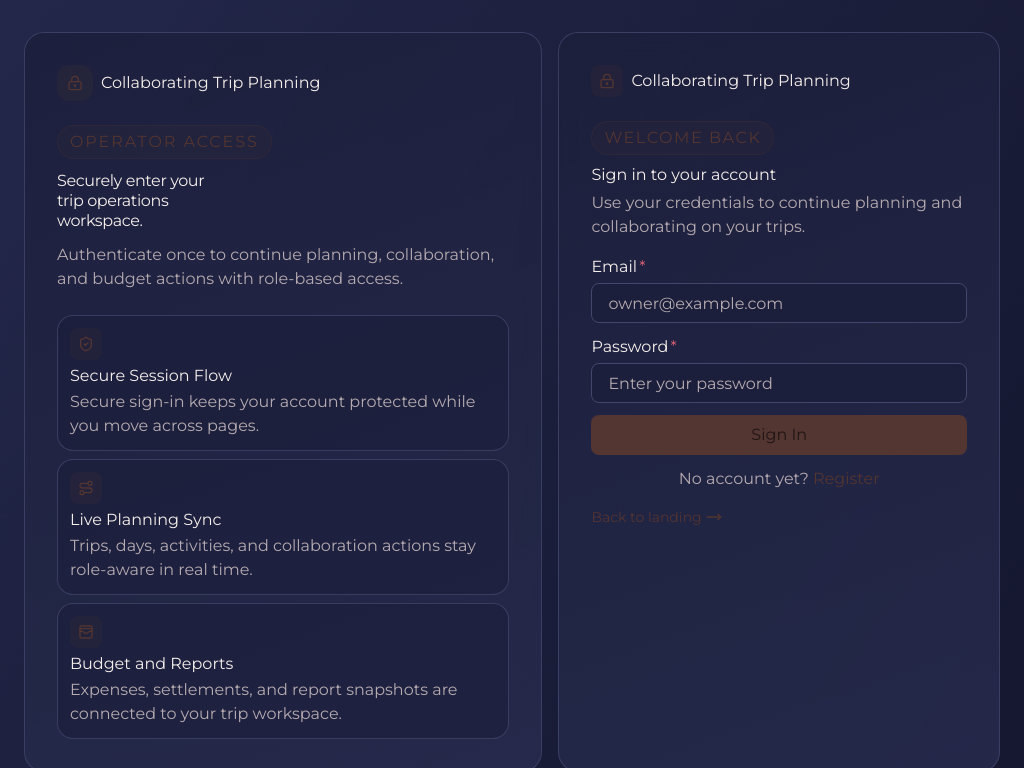
Scenario: LoginPage integration › shows API error message when sign in fails
This screenshot has width=1024, height=768.
In the field labelled "Email*": x=779, y=303 x1=591 y1=283 x2=967 y2=323, type "viewer@example.com"
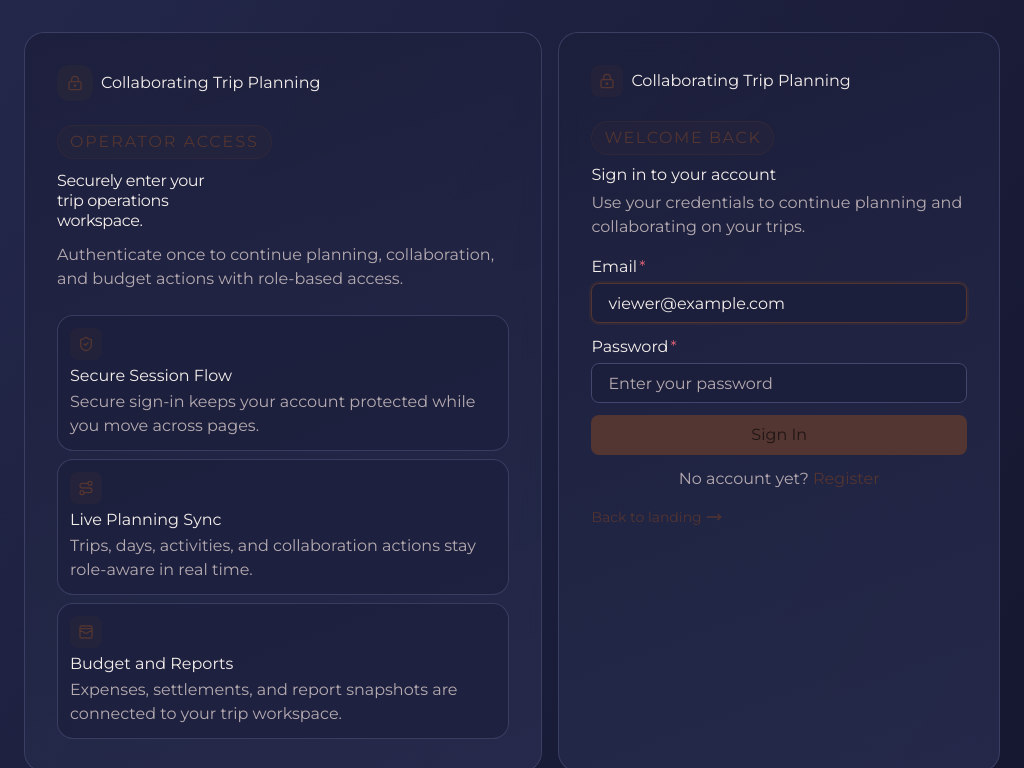
In the password field labelled "Password*": x=779, y=383 x1=591 y1=363 x2=967 y2=403, type "Password@123"
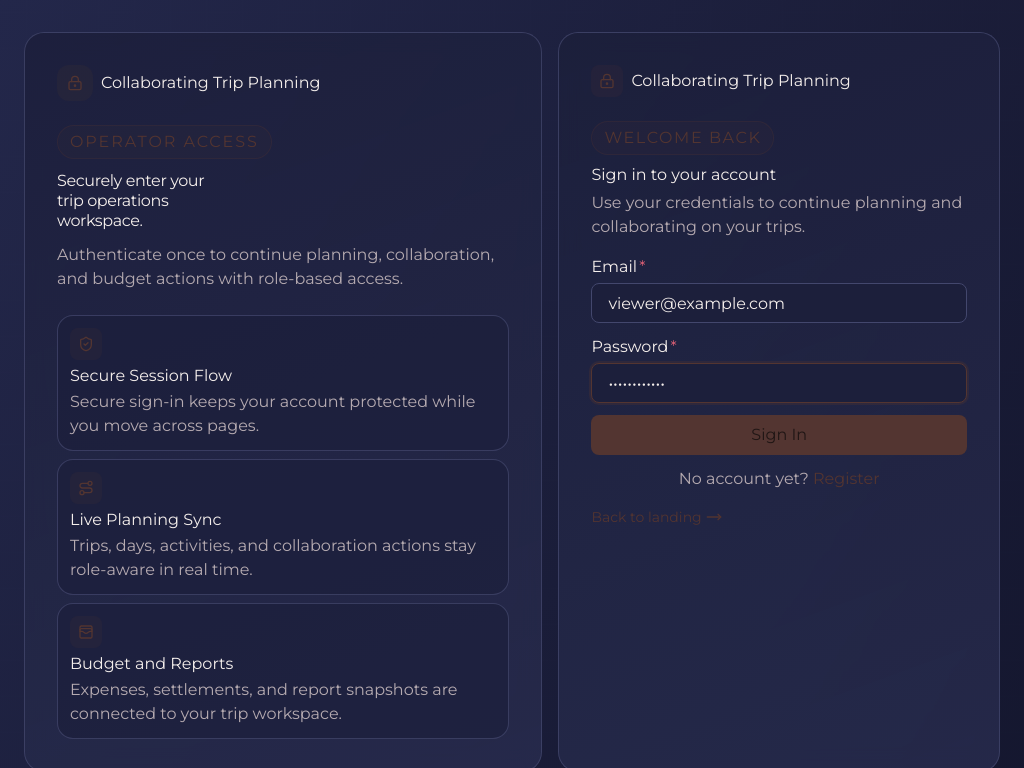
Click the button "Sign In": x=779, y=435 x1=591 y1=415 x2=967 y2=455
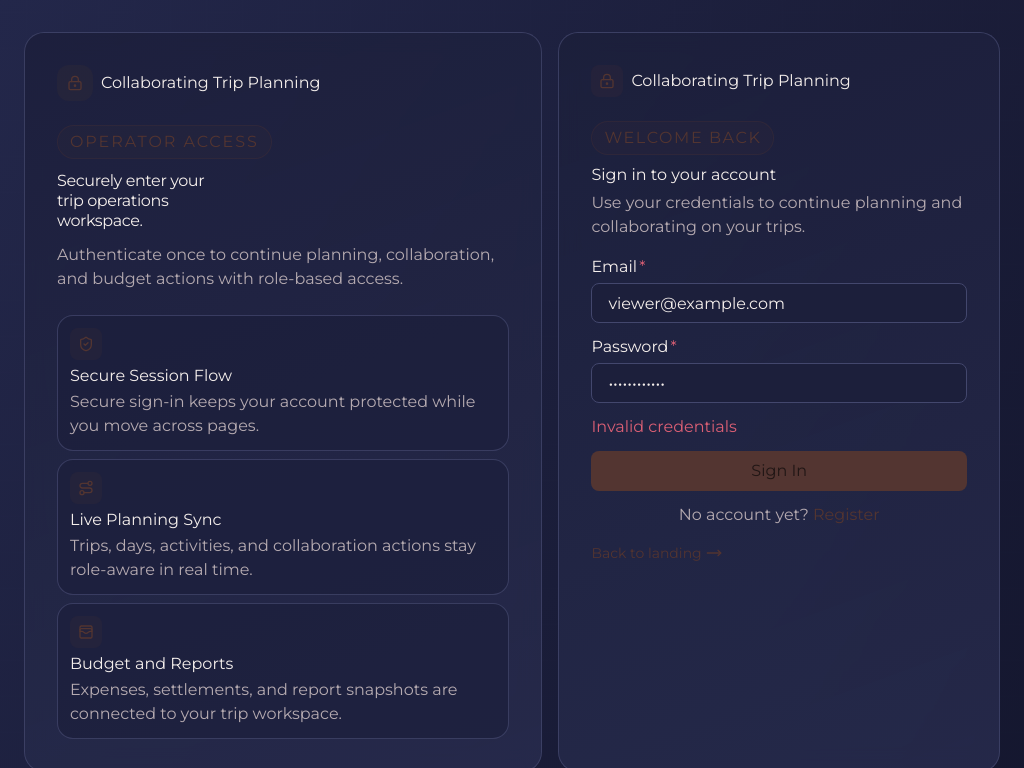
Now the text "Invalid credentials" is shown, box x1=591 y1=417 x2=737 y2=436
